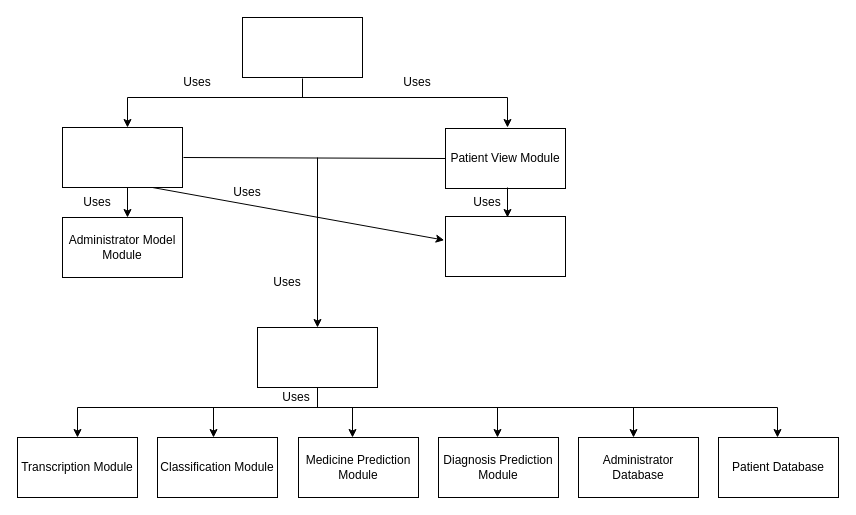
Some shapes in this 856 by 515 pixel diagram are drawn without their labels. Each missing label, with the centre of its shape:
Administrator View Module: the point at 122,157
Broker Module: the point at 317,357
Patient Model Module: the point at 505,246
User Interface: the point at 302,47
